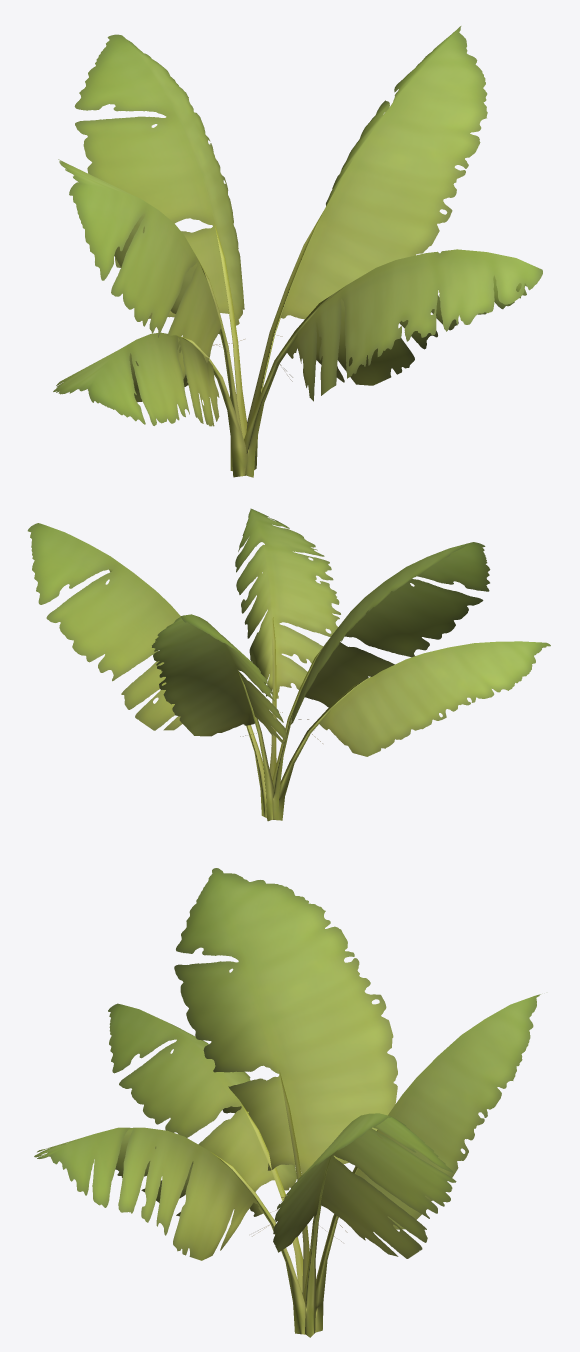
File: banana plant 02_lod1.obj
The picture shows the model from 3 angles, top to bottom: view 1: azimuth 30°, elevation 25°; view 2: azimuth 150°, elevation 25°; view 3: azimuth 270°, elevation 25°; orthographic projection. The views are drawn at different scales.
Parts seen in each view (by area): view 1: tree; view 2: tree; view 3: tree.
Part boxes in pixels (x1,y1,x2,y2): tree: (53,26,542,477); tree: (27,508,550,821); tree: (34,868,540,1337).
Size of the model in its own units: 244 by 156 by 210.
